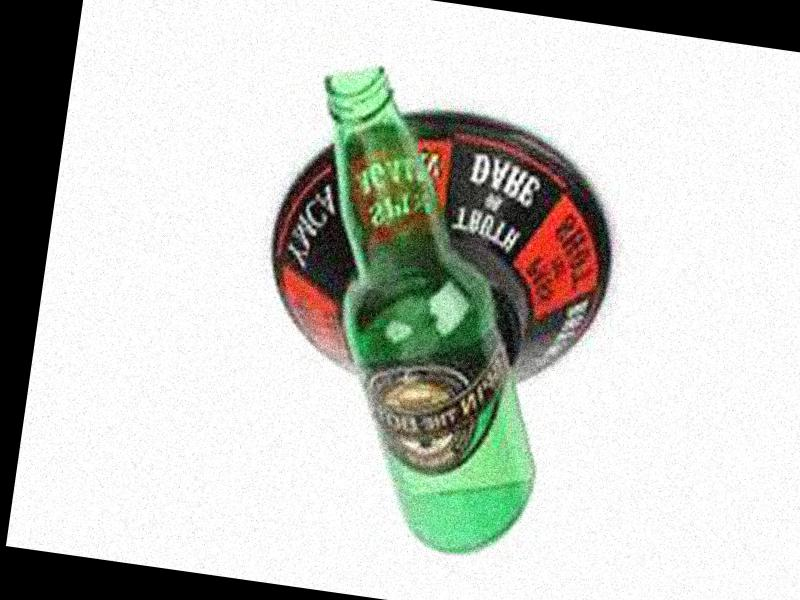Beer: (264, 59, 592, 563)
